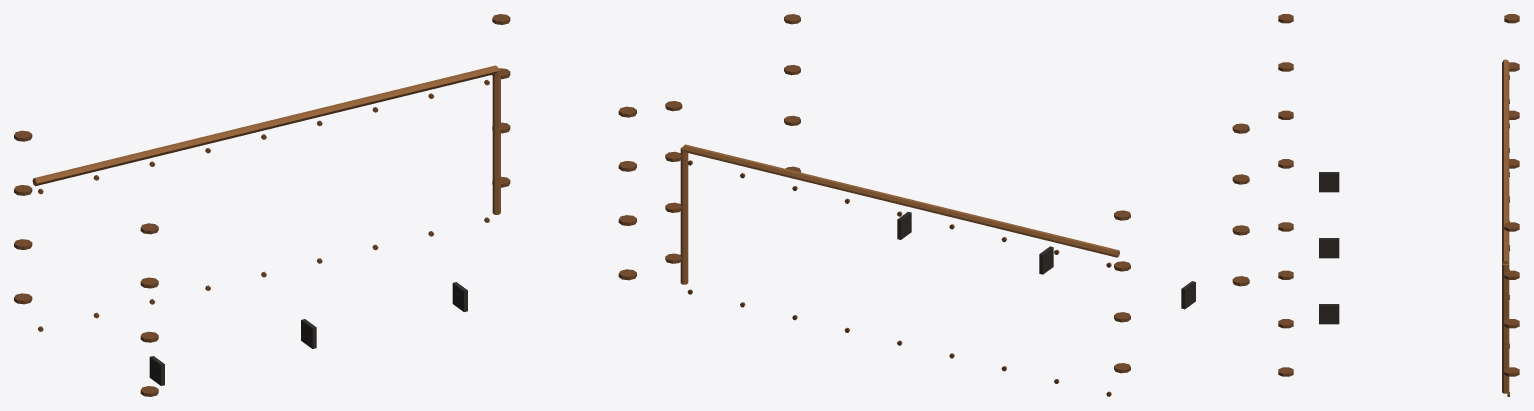
Rendered from camp_moss_stall_detail1.glb.
3 views of the same model, side by side, from view 1: azimuth 30°, elevation 25°; view 2: azimuth 150°, elevation 25°; view 3: azimuth 270°, elevation 25° (orthographic). The views are drawn at different scales.
Parts seen in each view (by area): view 1: Body; view 2: Body; view 3: Body.
Part boxes in pixels (<box>): Body: <box>14,14,636,396</box>; Body: <box>665,14,1249,396</box>; Body: <box>1278,14,1519,396</box>.
Bounding box in the file's own units: 12.37 × 4.78 × 5.87.
